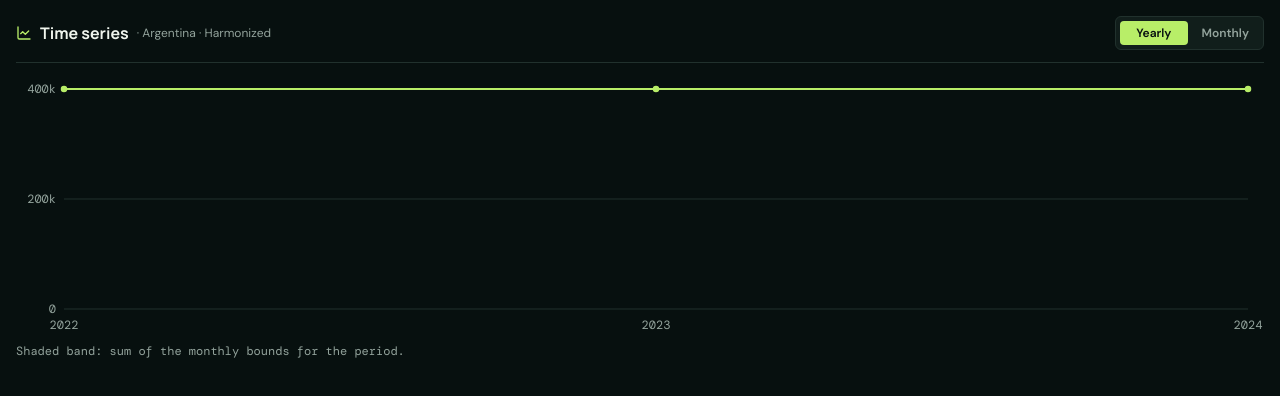
Test case: SeriesWidget · la curva corresponde siempre a su encabezado › al cambiar solo la granularidad conserva la curva, atenuada y marcada como actualizándose
expect the text "400k" is shown: met, box [27,81,56,97]
Click the button "Monthly": click(1225, 33) [1192,21,1259,45]
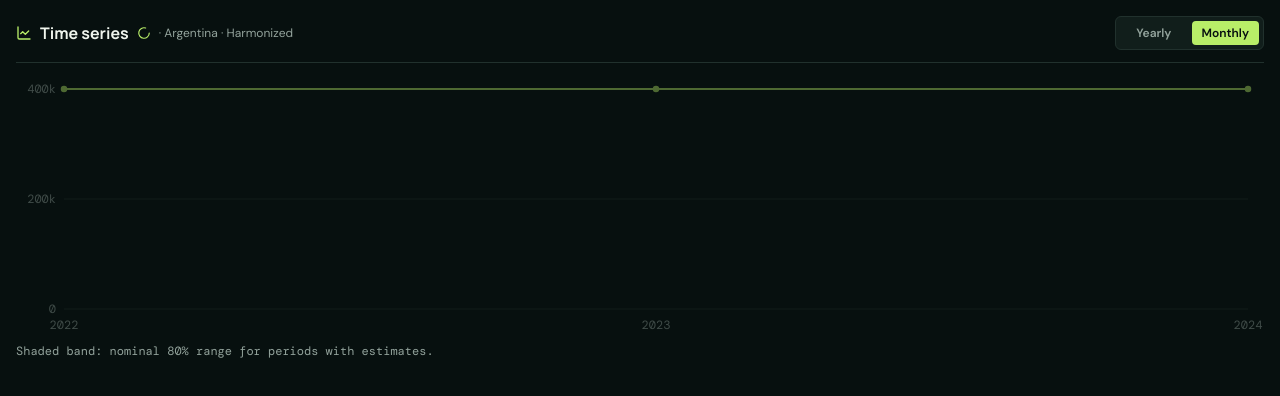
expect the text "400k" is shown: met, box [27,81,56,97]
expect the picture "0 200k 400k 2022 2023 2024" has attribute data-desactualizado="true": met
expect the element "Time series" has attribute aria-busy="true": met
